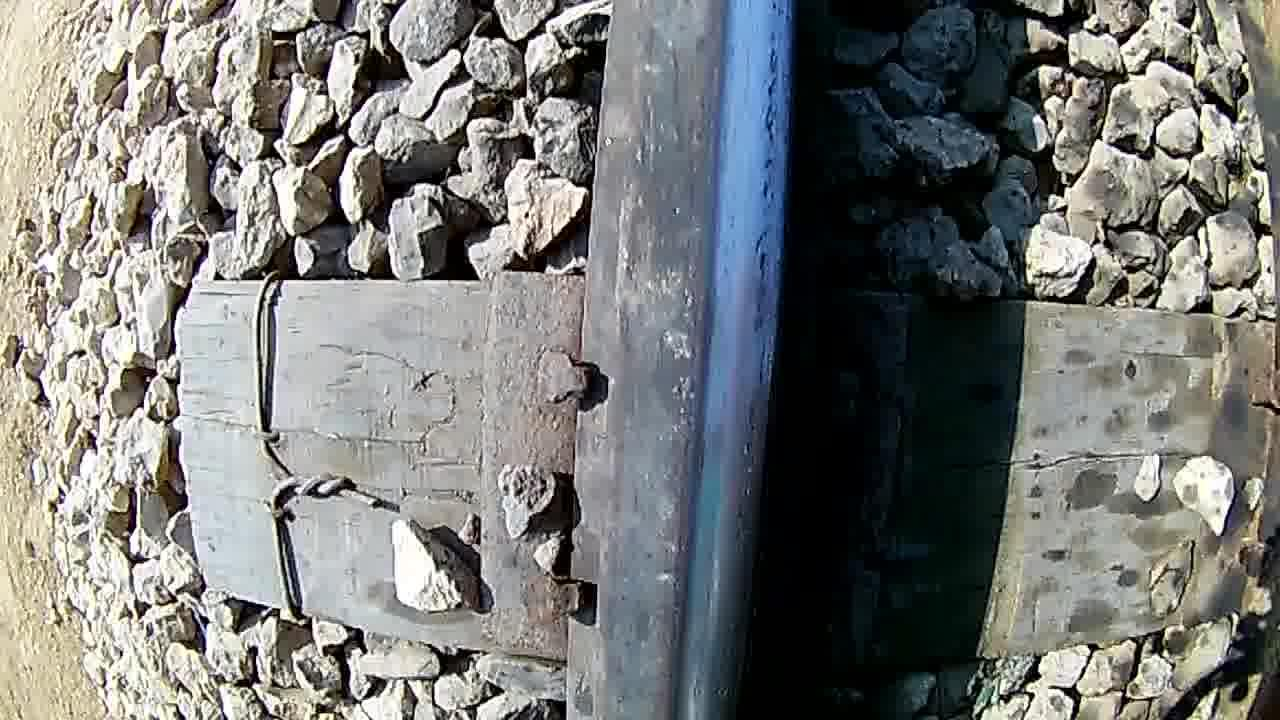crack: (614, 3, 799, 720)
